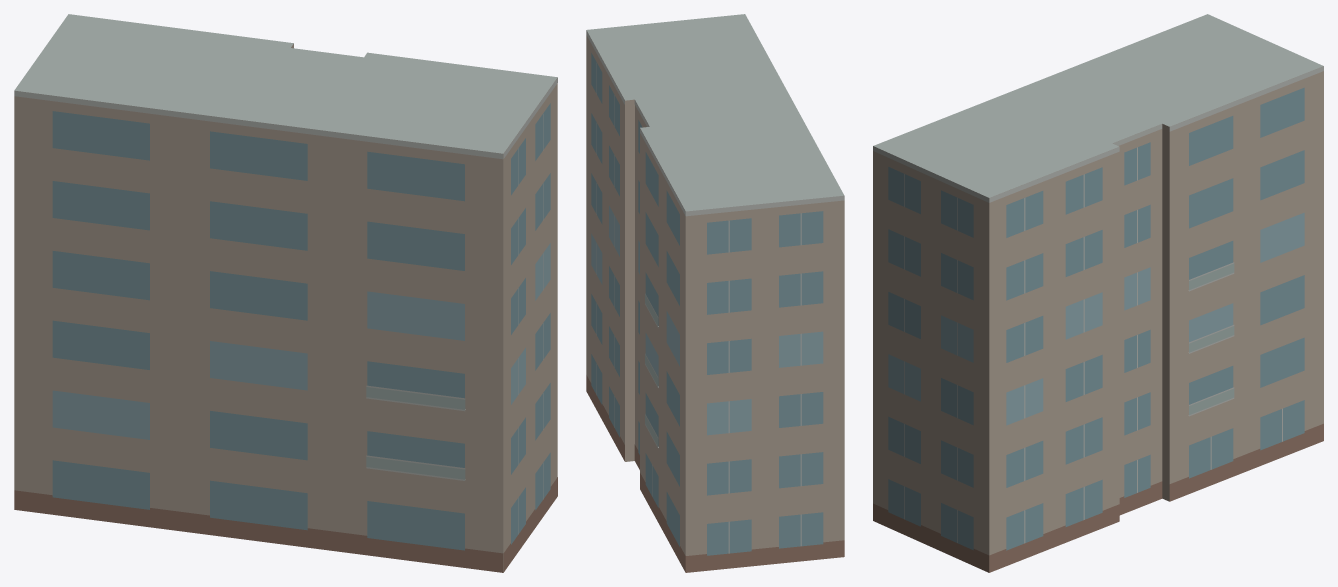
The model's file is survey-upis-32710569.glb.
3 renders of one model, left to right at view 1: azimuth 30°, elevation 25°; view 2: azimuth 150°, elevation 25°; view 3: azimuth 270°, elevation 25°, orthographic. The views are drawn at different scales.
Visible parts, largest first — view 1: survey-upis-32710569.tmp; view 2: survey-upis-32710569.tmp; view 3: survey-upis-32710569.tmp.
Boxes of the visible parts, x1,y1,x2,y2 form: survey-upis-32710569.tmp: [14, 14, 557, 572]; survey-upis-32710569.tmp: [586, 14, 844, 572]; survey-upis-32710569.tmp: [873, 14, 1323, 572].
Size of the model in its own units: 19.26 by 18.3 by 19.94.
